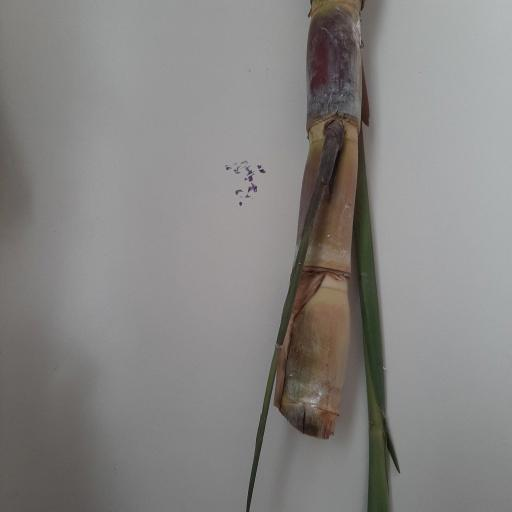Sprouted_Bud: (314, 116, 346, 198)
